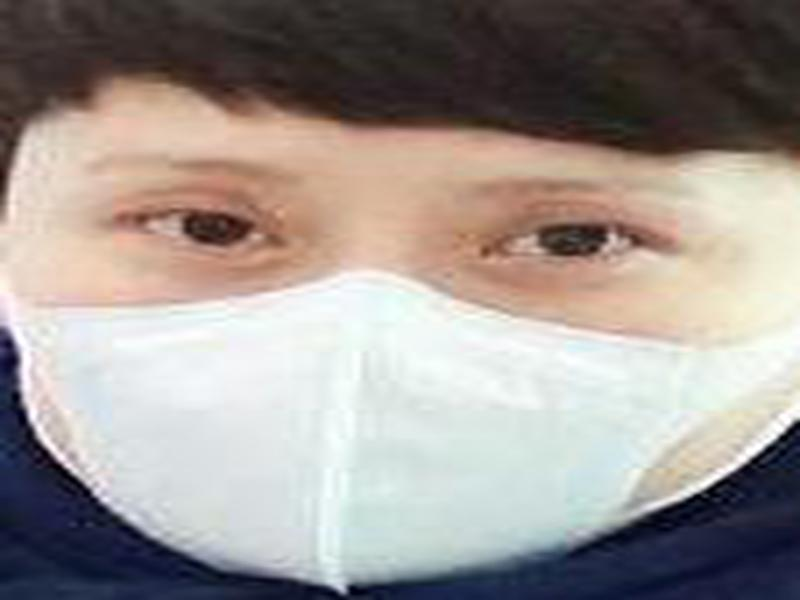with_mask: (1, 86, 799, 600)
